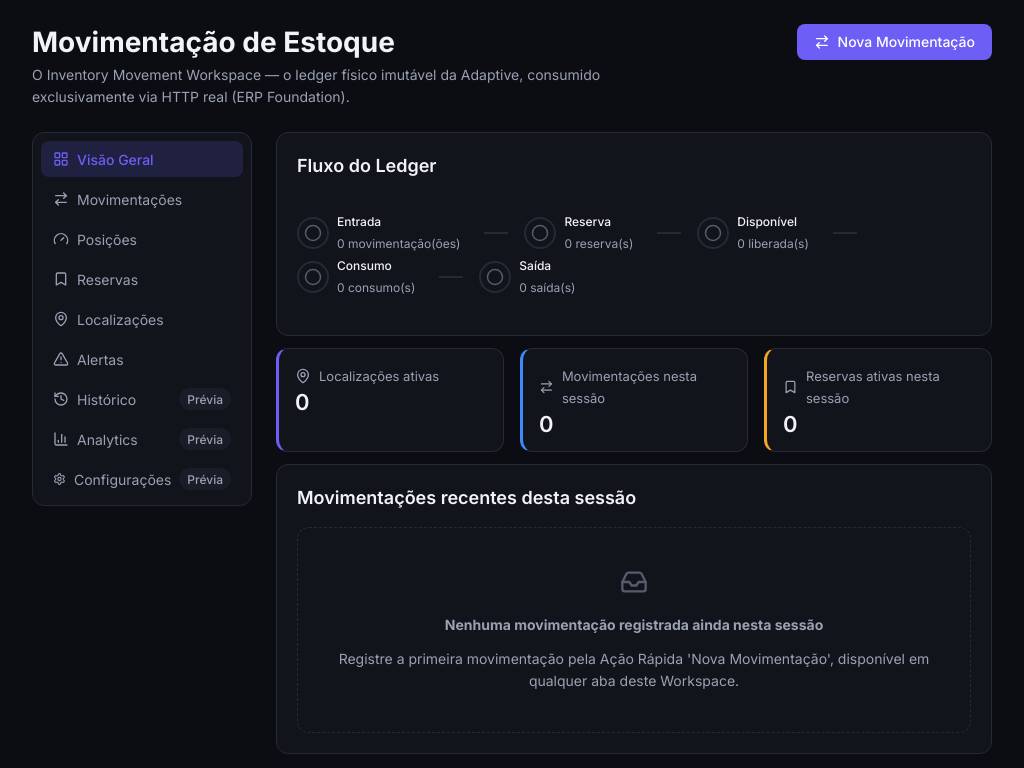
Test: InventoryMovementPage — Inventory Movement Workspace por seções (IMP-405) › registra uma Movimentação real via Ação Rápida — Visão Geral e Histórico refletem imediatamente
expect the button "Visão Geral" is shown: met, box [41,141,243,177]
Click the button "Nova Movimentação" at (894, 42), box [796,24,992,60]
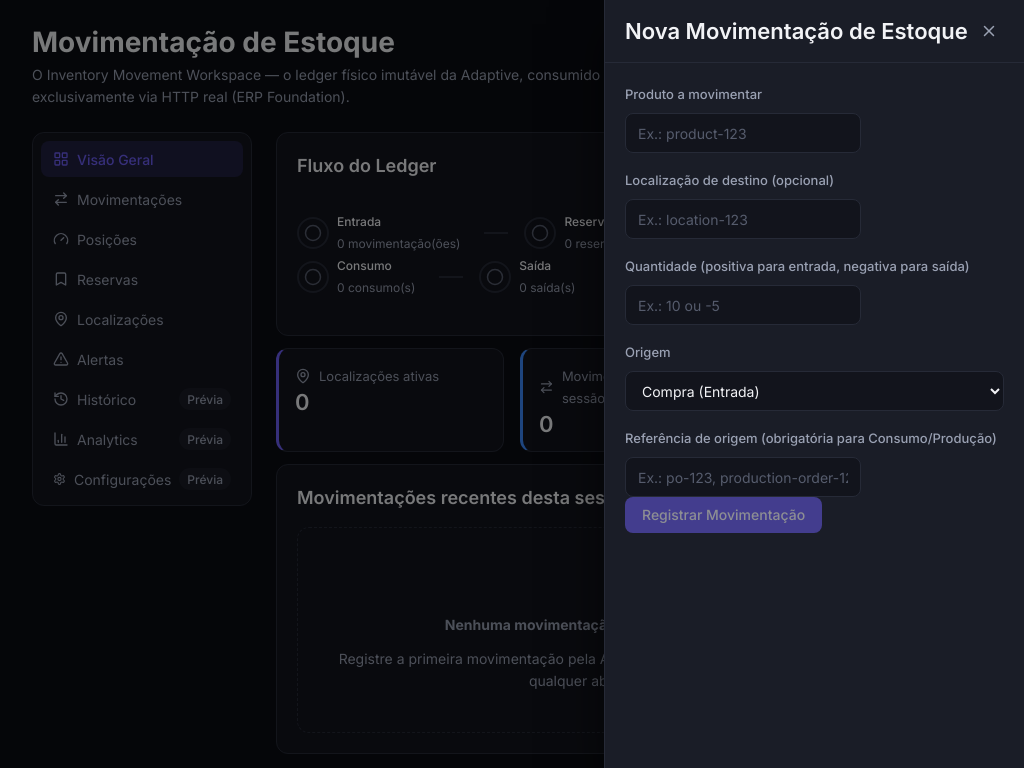
Type "product-1" into the field labelled "Produto a movimentar" at (743, 133), box [625,113,861,153]
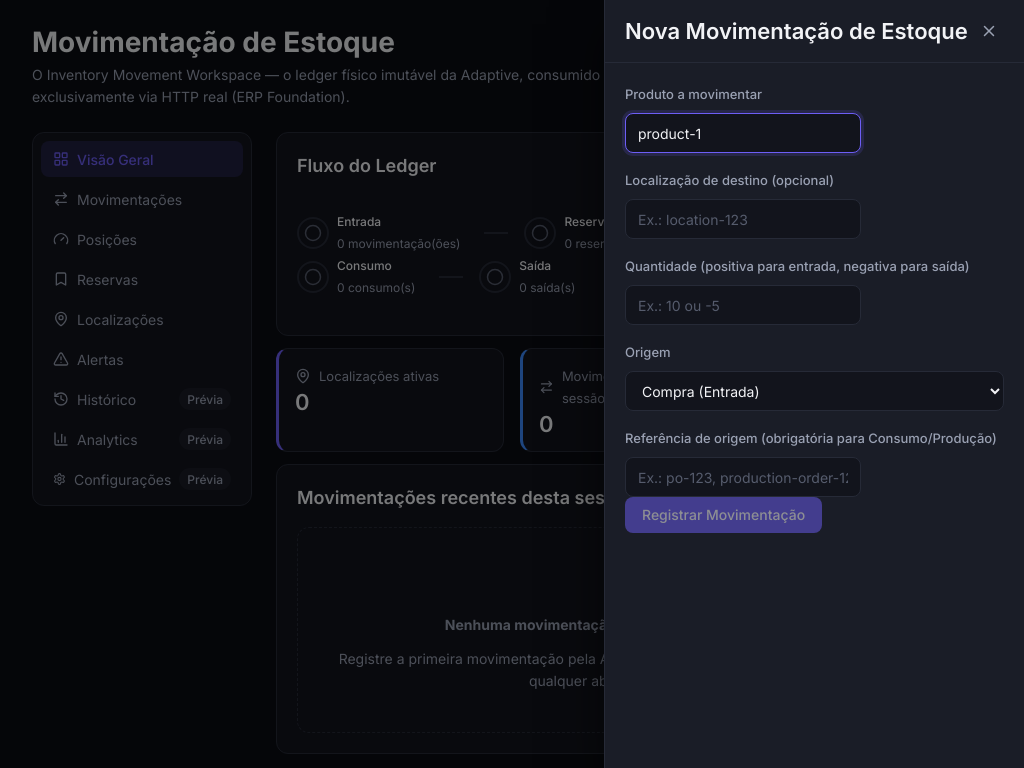
Type "10" into the number field labelled "Quantidade (positiva para entrada, negativa para saída)" at (743, 305), box [625,285,861,325]
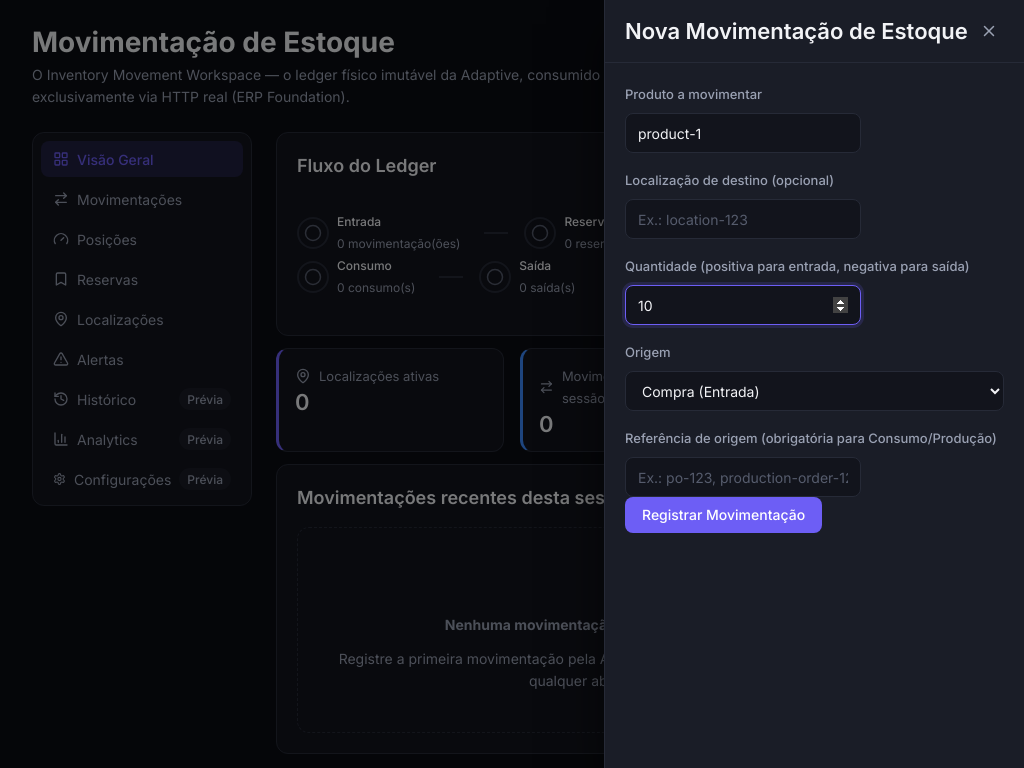
Click the button "Registrar Movimentação" at (724, 515), box [625,497,822,533]
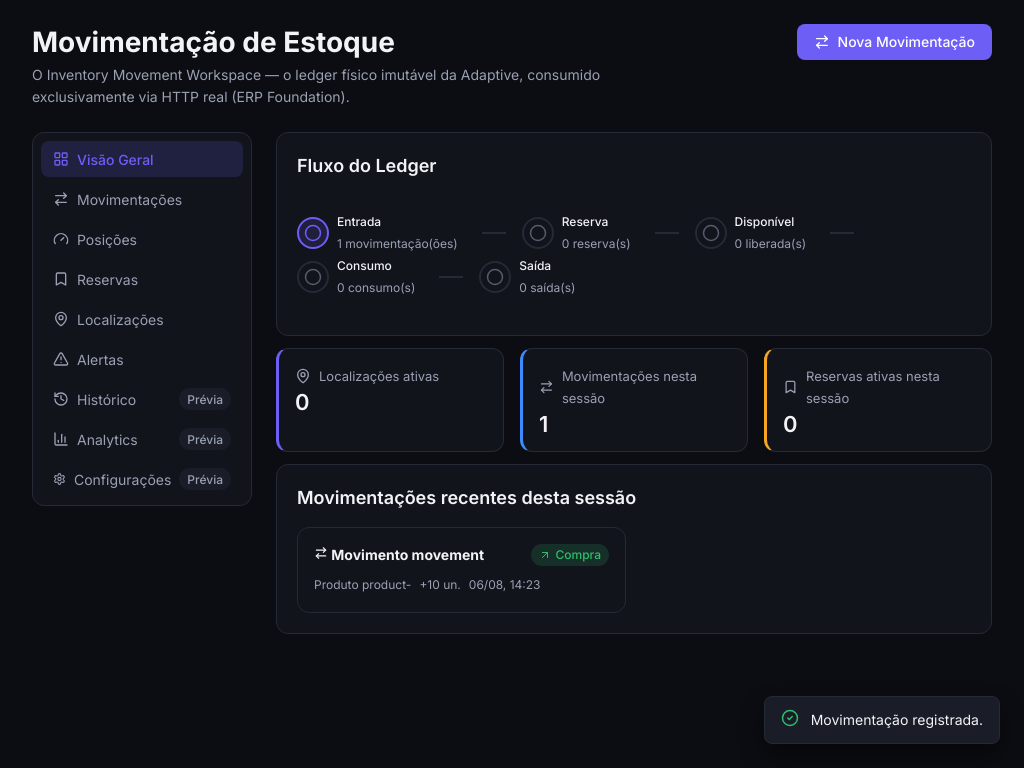
expect the heading "Nova Movimentação de Estoque" is gone: met
expect the text "Movimento movement" is shown: met, box [314,544,484,566]
Click the button "Histórico Prévia" at (142, 399), box [41,381,243,417]
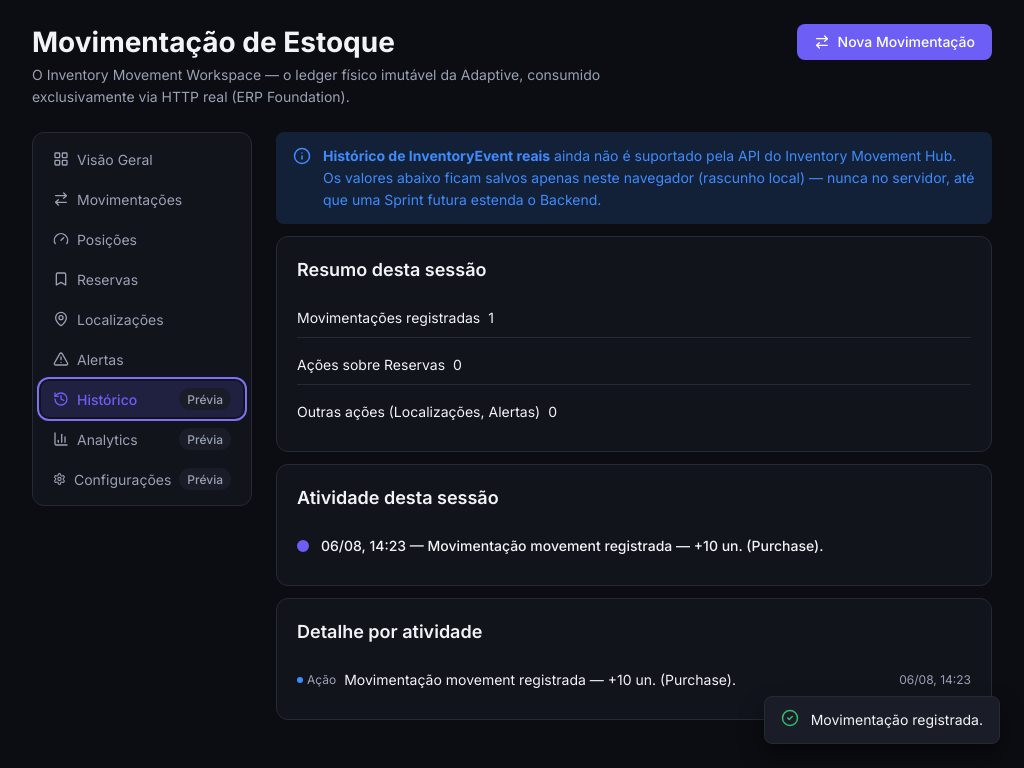
expect the text "Movimentações registradas" is shown: met, box [297,307,480,329]
